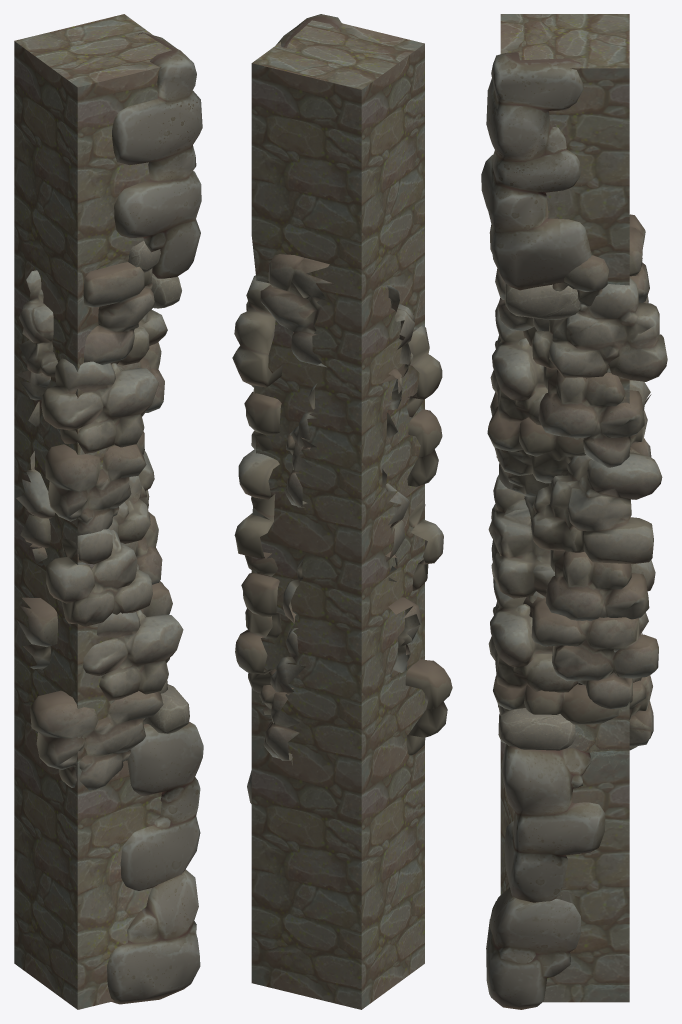
Rendered from SM_FW01_Ruins_Wall_Corner_Tall_B_02.fbx.
3 views of the same model, side by side, from view 1: azimuth 30°, elevation 25°; view 2: azimuth 150°, elevation 25°; view 3: azimuth 270°, elevation 25° (orthographic).
Visible parts, largest first — view 1: SM_FW01_Ruins_Wall_Corner_Tall_B_02_LOD0, SM_FW01_Ruins_Wall_Corner_Tall_B_02; view 2: SM_FW01_Ruins_Wall_Corner_Tall_B_02, SM_FW01_Ruins_Wall_Corner_Tall_B_02_LOD0; view 3: SM_FW01_Ruins_Wall_Corner_Tall_B_02_LOD0, SM_FW01_Ruins_Wall_Corner_Tall_B_02.
Part boxes in pixels (box(x1,y1,x2,y2)): SM_FW01_Ruins_Wall_Corner_Tall_B_02_LOD0: box(16, 32, 203, 1004); SM_FW01_Ruins_Wall_Corner_Tall_B_02: box(14, 14, 171, 1009); SM_FW01_Ruins_Wall_Corner_Tall_B_02: box(251, 20, 424, 1009); SM_FW01_Ruins_Wall_Corner_Tall_B_02_LOD0: box(232, 14, 452, 803); SM_FW01_Ruins_Wall_Corner_Tall_B_02_LOD0: box(481, 52, 667, 1009); SM_FW01_Ruins_Wall_Corner_Tall_B_02: box(500, 14, 629, 1002).
Size of what is drawn, in the model's own units: 1.54 by 8.14 by 1.45.
